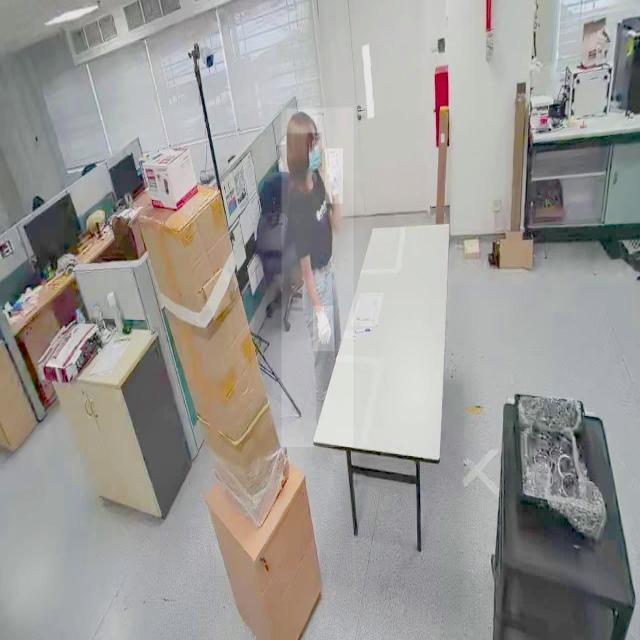face_mask: (308, 132, 322, 172)
hand_glove: (312, 306, 334, 352), (325, 148, 343, 204)
head_nohelmet: (287, 110, 317, 134)
person: (281, 108, 353, 448)
